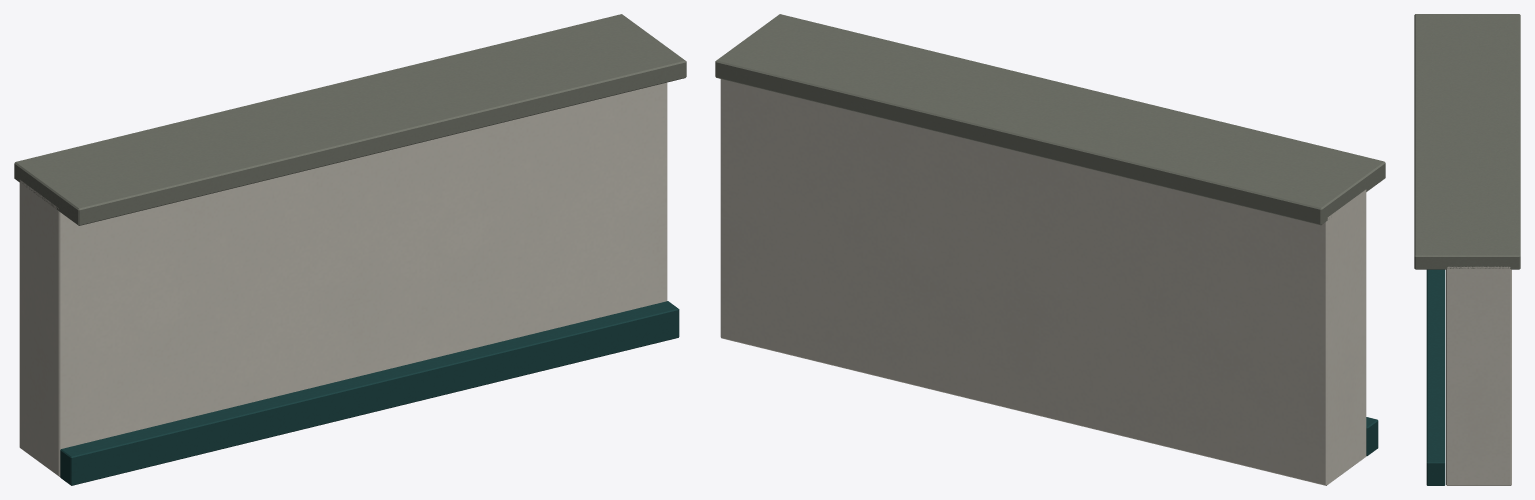
The model's file is fascia_cornice_2m.glb.
3 renders of one model, left to right at view 1: azimuth 30°, elevation 25°; view 2: azimuth 150°, elevation 25°; view 3: azimuth 270°, elevation 25°, orthographic. The views are drawn at different scales.
Parts seen in each view (by area): view 1: fascia_cornice_2m; view 2: fascia_cornice_2m; view 3: fascia_cornice_2m.
Boxes of the visible parts, x1,y1,x2,y2 form: fascia_cornice_2m: (14,14,686,485); fascia_cornice_2m: (715,14,1385,485); fascia_cornice_2m: (1414,14,1520,485).
Size of the model in its own units: 2 by 0.8875 by 0.37.
Materials: 3 (3 with a texture image).
